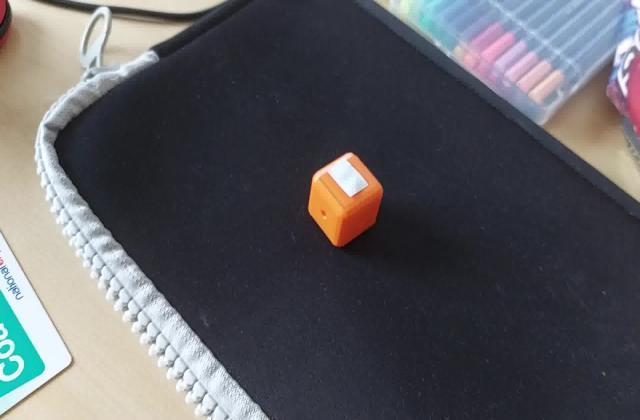sticker: (308, 152, 388, 252)
white: (332, 168, 371, 198)
